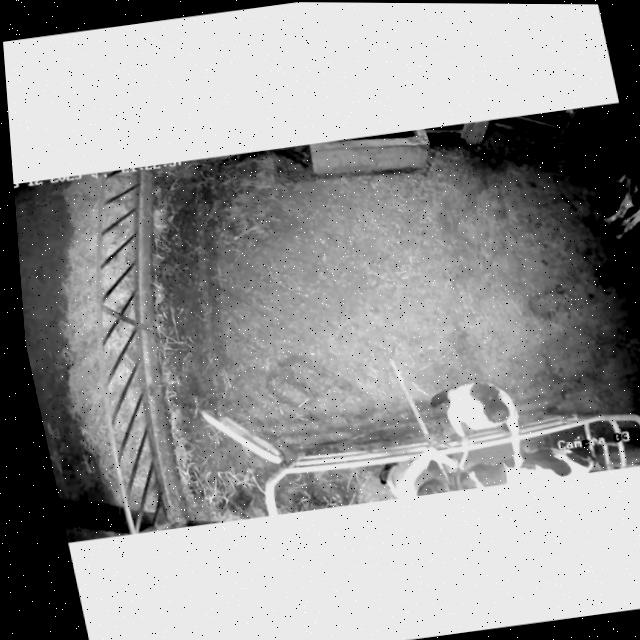stand: (573, 124, 640, 254)
